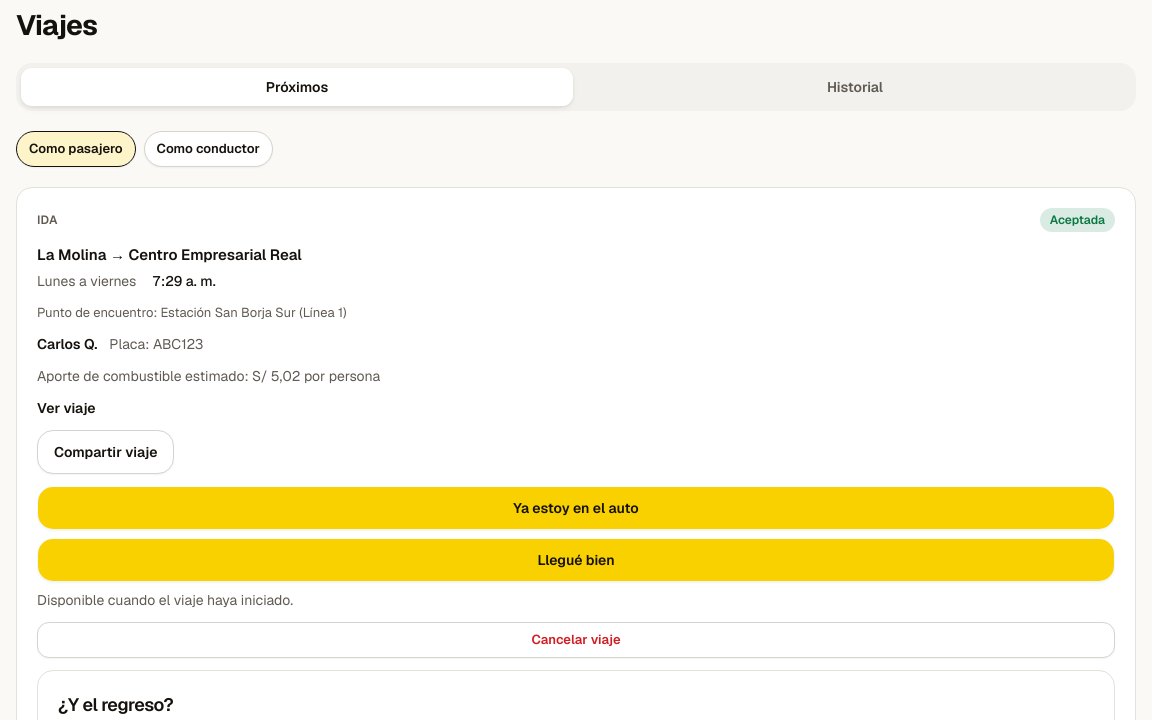
Viajes › loads the past trips when opening Historial
Click the tab "Historial". click: (855, 87)
box: [578, 67, 1132, 107]
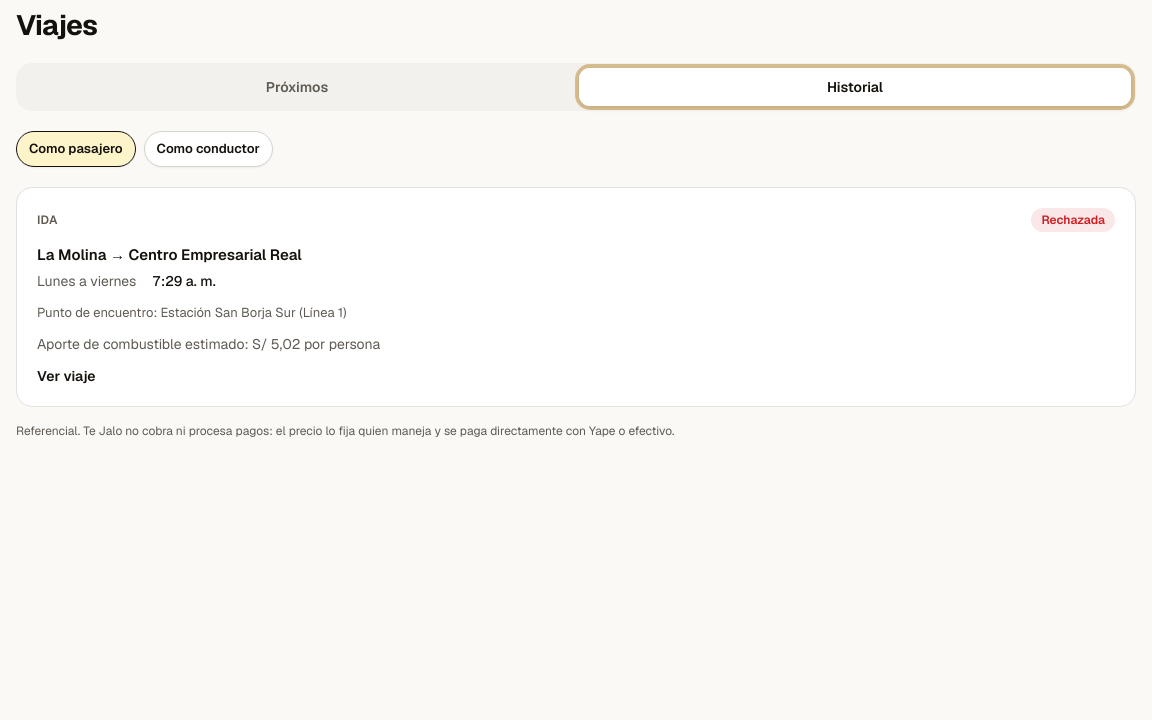
expect the text "Rechazada" is shown: met, box [1032, 208, 1115, 232]
